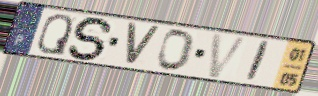I: (243, 39, 273, 84)
O: (155, 29, 198, 73)
Q: (35, 13, 75, 57)
S: (66, 16, 116, 62)
V: (206, 32, 251, 80), (124, 21, 162, 68)
